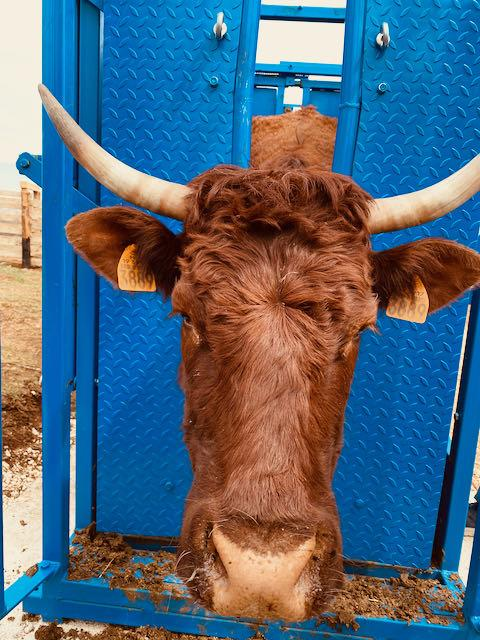muzzles: (174, 511, 347, 623)
